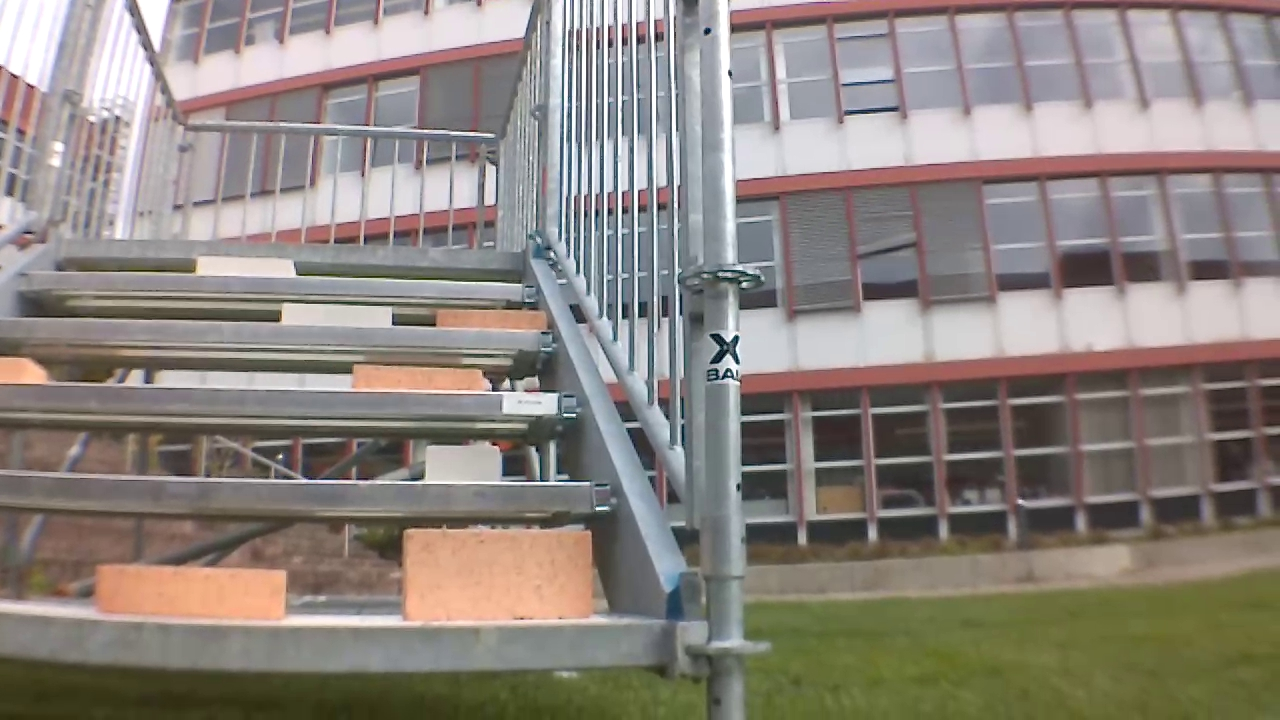brick: (397, 529, 600, 613), (88, 561, 293, 620), (338, 362, 494, 394), (183, 254, 300, 283), (427, 439, 503, 482), (434, 304, 551, 331), (282, 306, 388, 326)
edge: (0, 308, 551, 351), (0, 383, 578, 417), (0, 279, 533, 301), (36, 243, 531, 259)
stairs: (0, 0, 741, 699)
steps: (0, 240, 679, 649)
